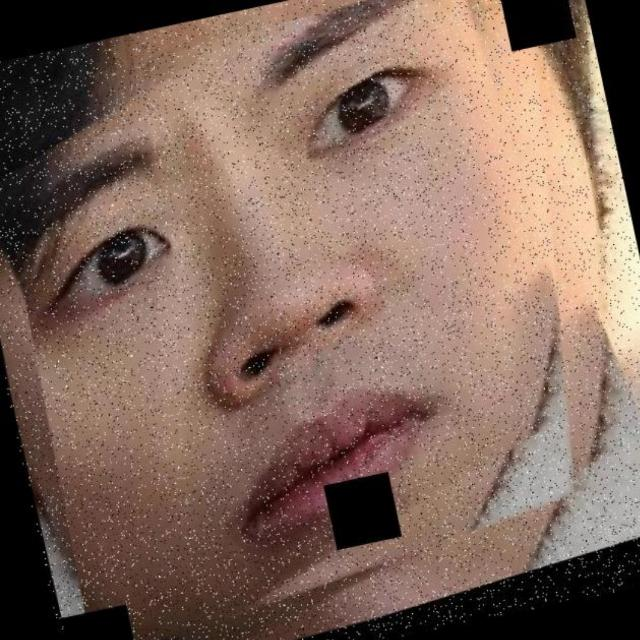Angry: (28, 23, 522, 640)
